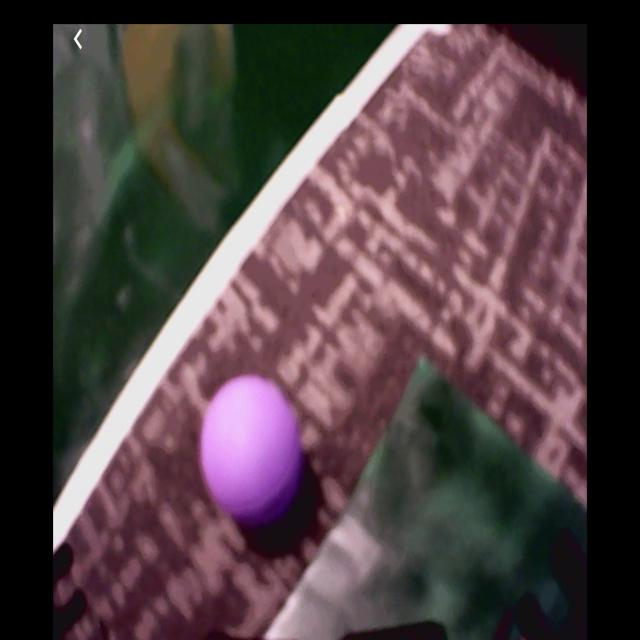ball: (200, 377, 306, 524)
